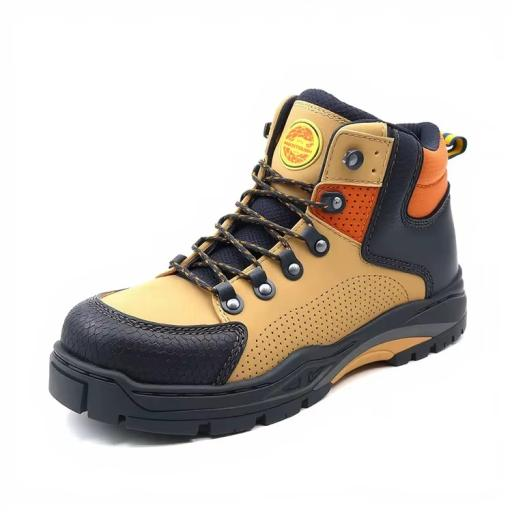safety_boots: (46, 74, 510, 440)
